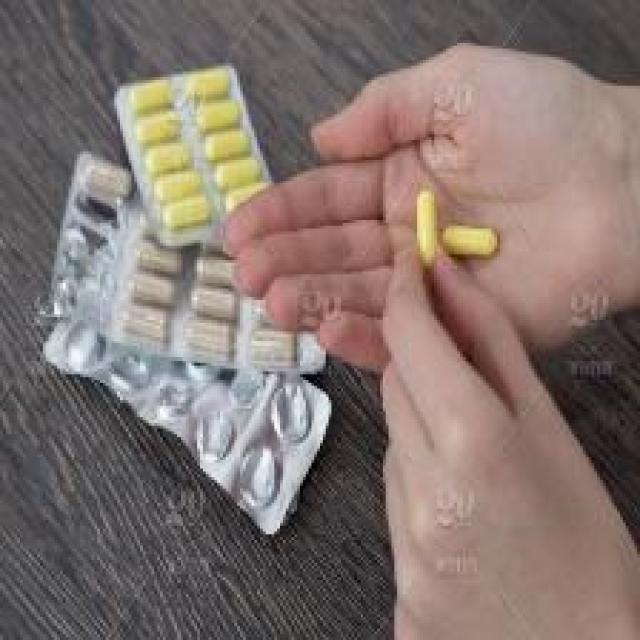Medicine: (36, 70, 516, 517)
